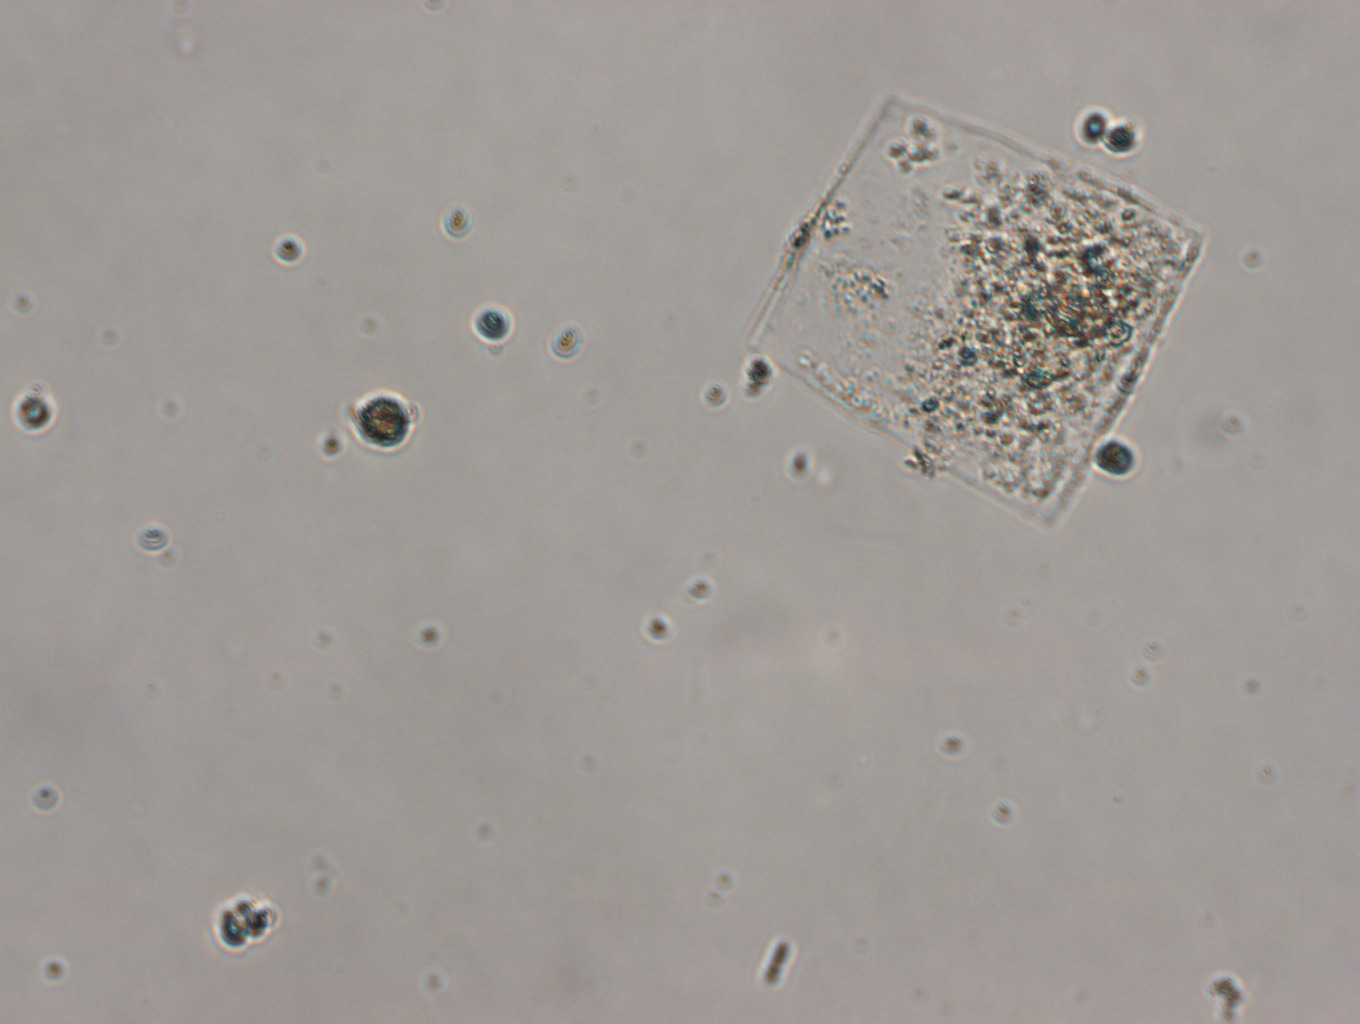helicotheca: (743, 87, 1209, 529)
